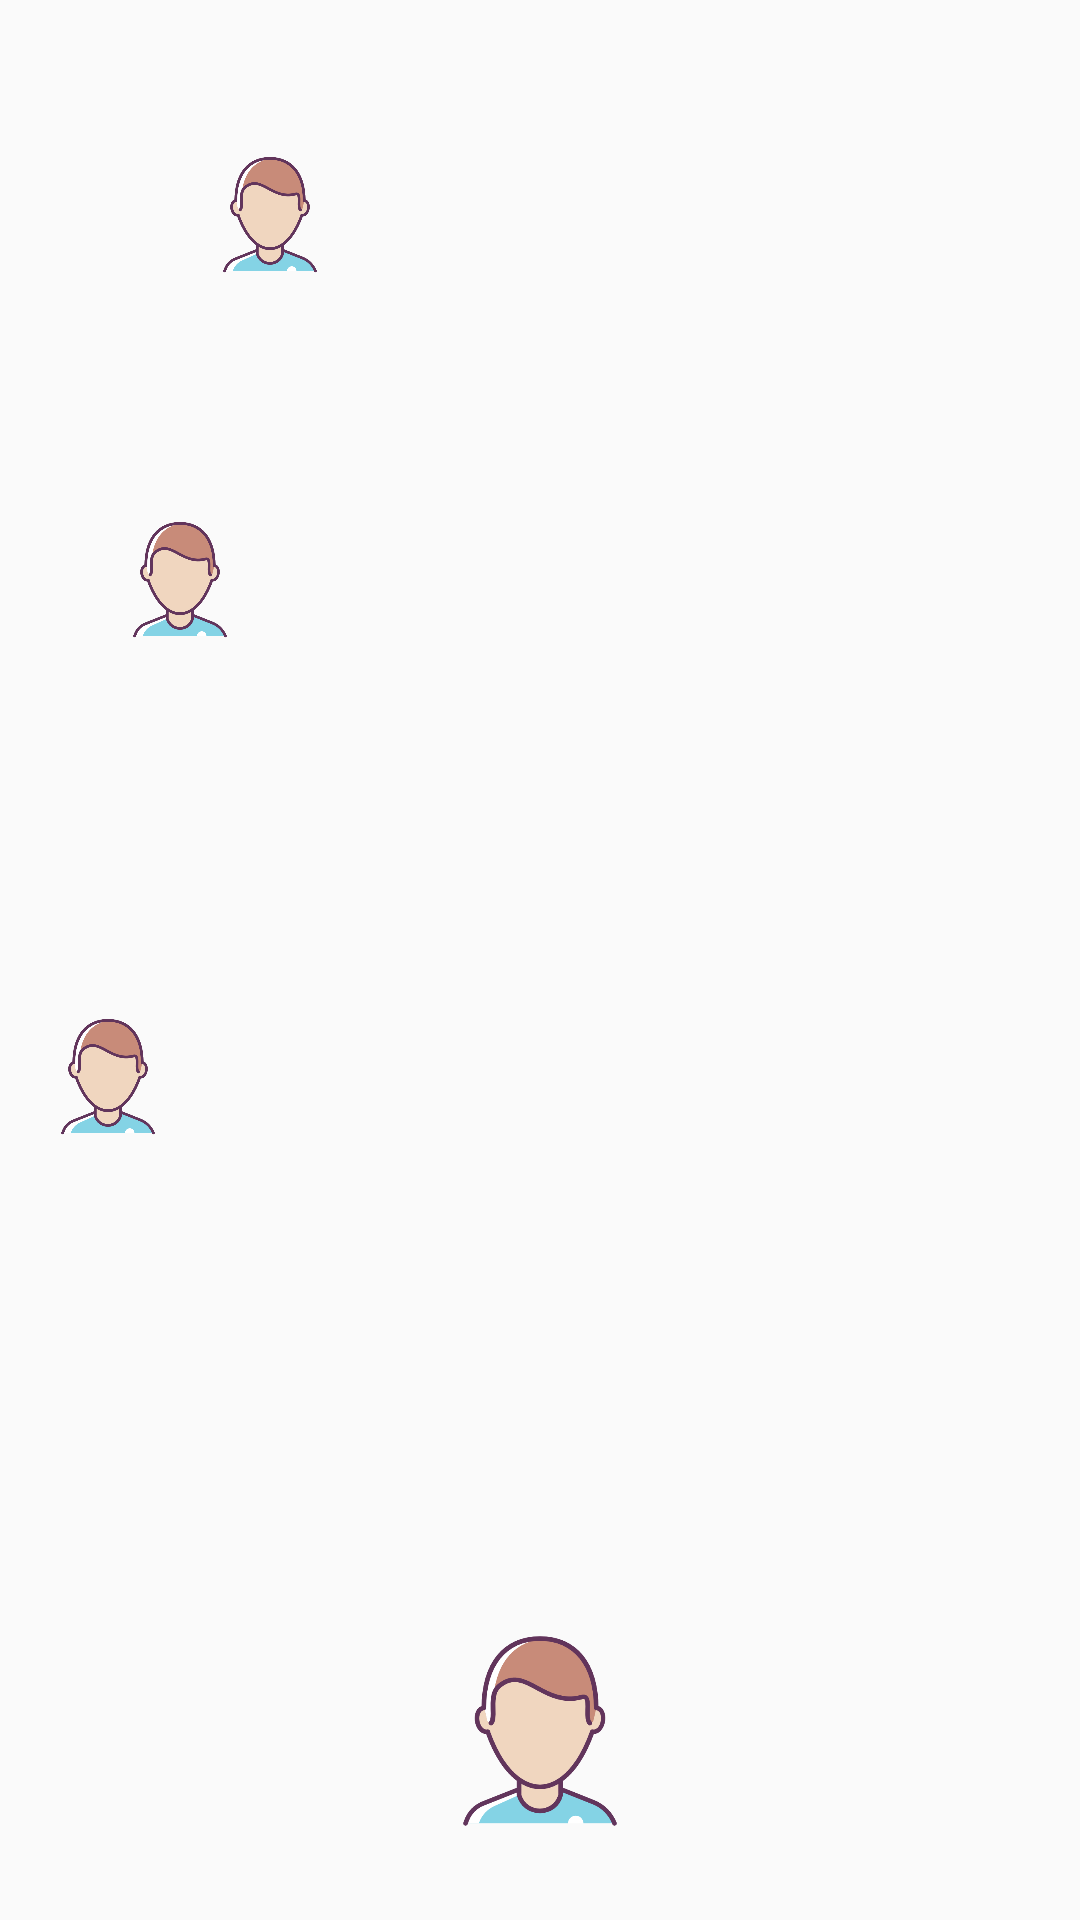

Named icons in this screenshot (1080 × 1920) and their bounding boxes, (x1, y1, x2, y2):
player modif: (223, 157, 317, 272), (133, 522, 227, 637), (61, 1019, 155, 1134), (463, 1636, 617, 1826)
